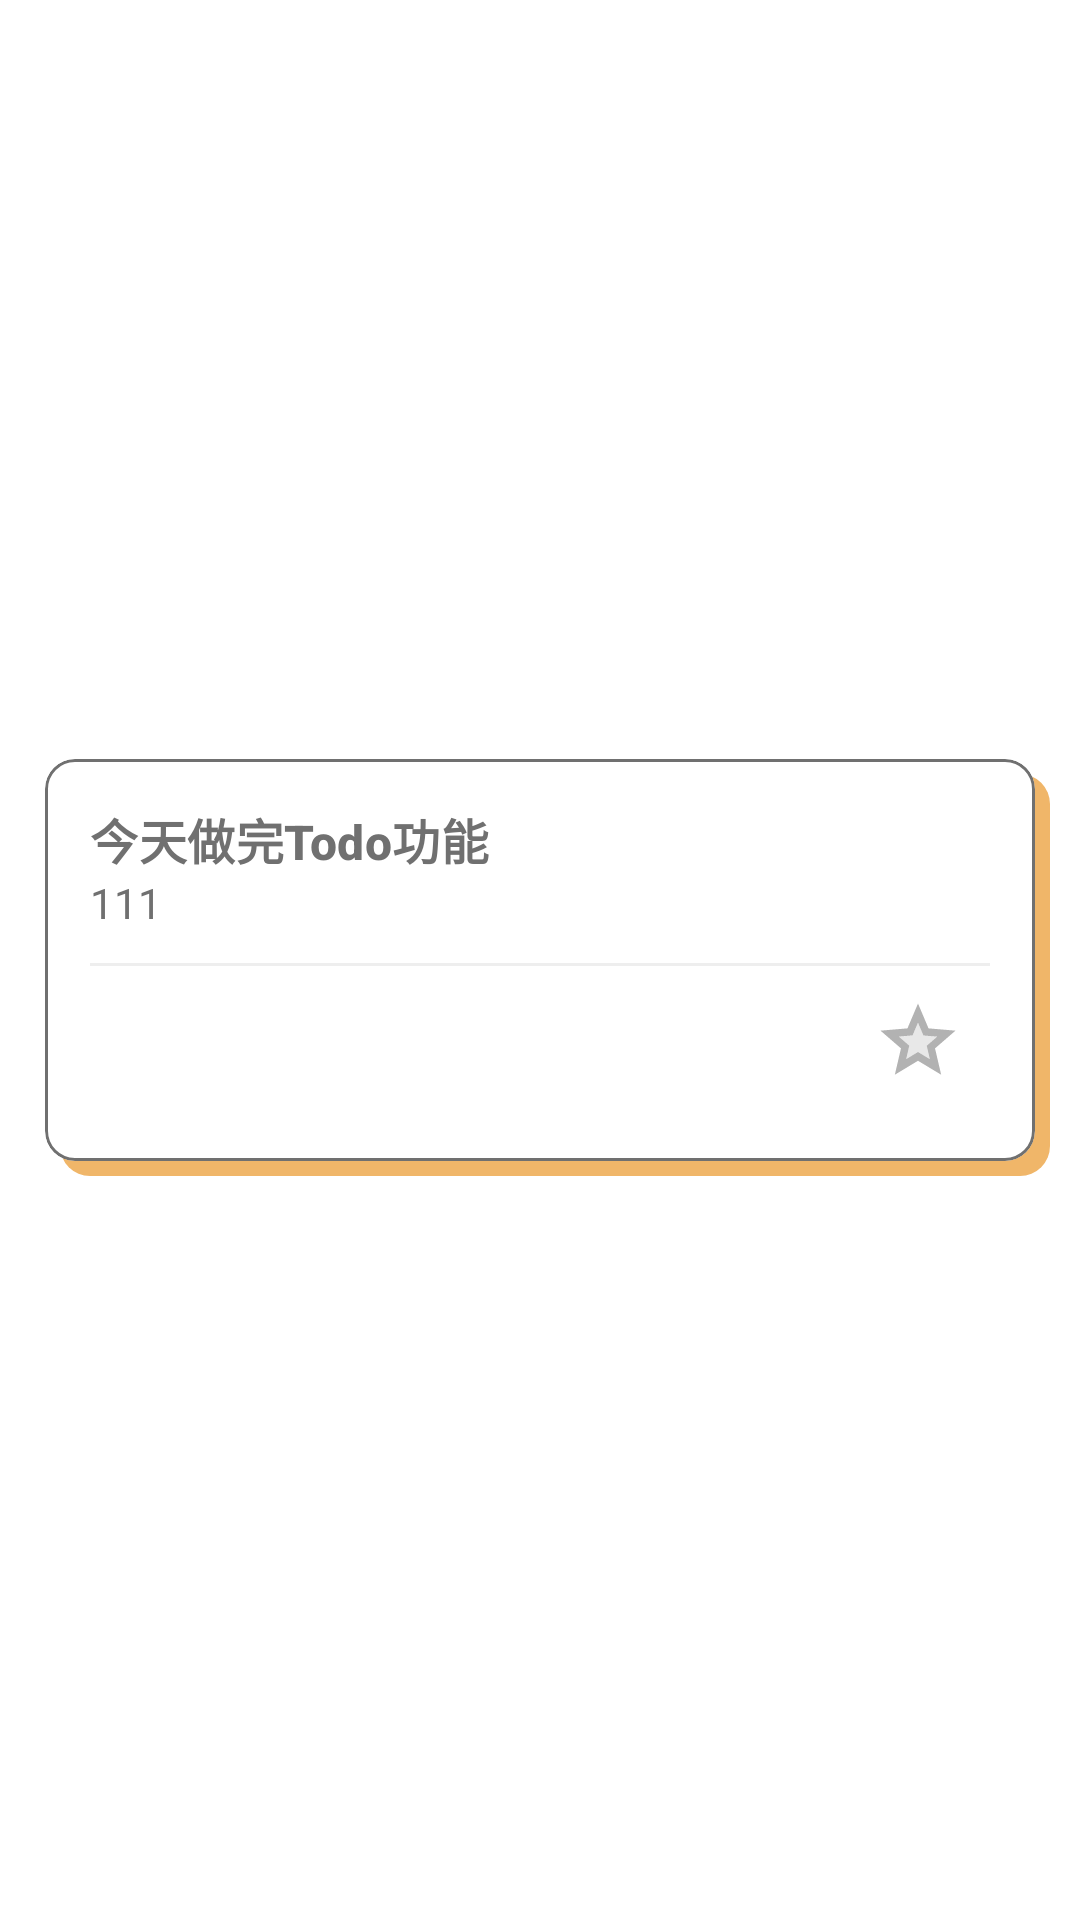

Where icons sit on this 1080px×1920px app screen, as box=[x1, y1, x2, y2]:
grade: box=[881, 1004, 955, 1074]
